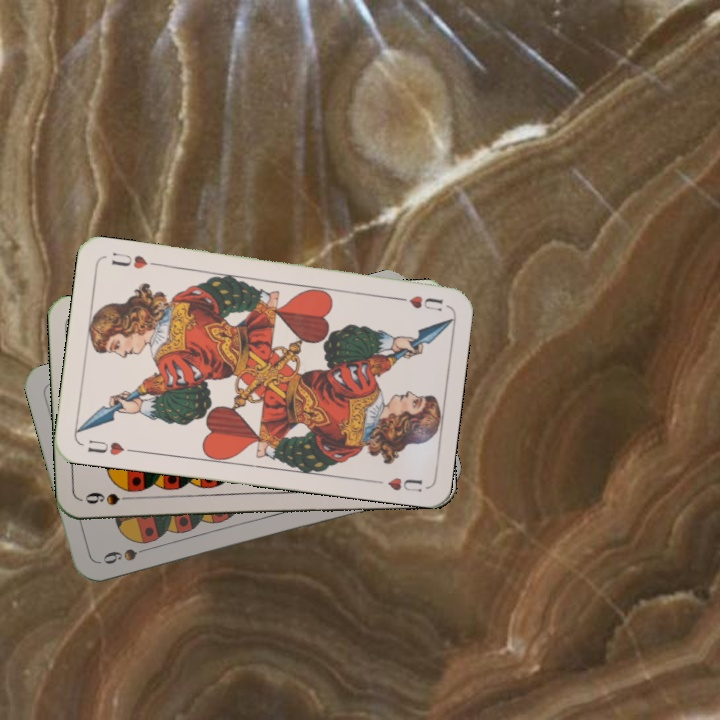HU: (389, 291, 445, 313), (84, 435, 137, 458)
S9: (98, 542, 156, 567), (81, 488, 140, 508)
